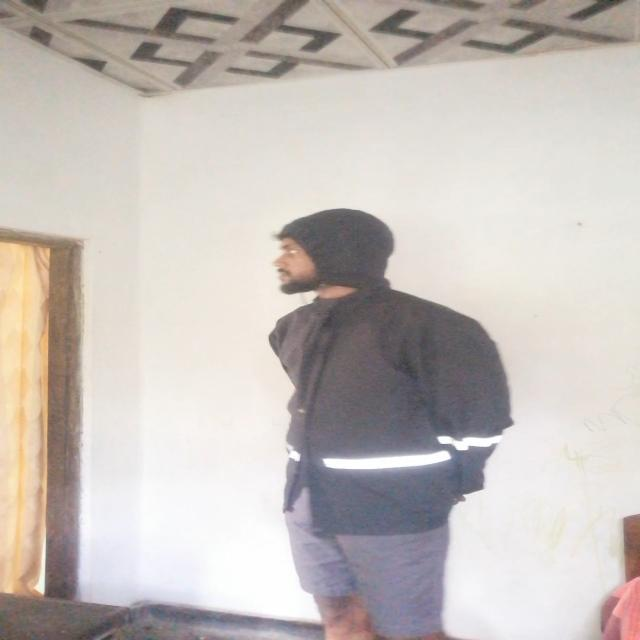Jacket_Wearer: (221, 204, 516, 530)
